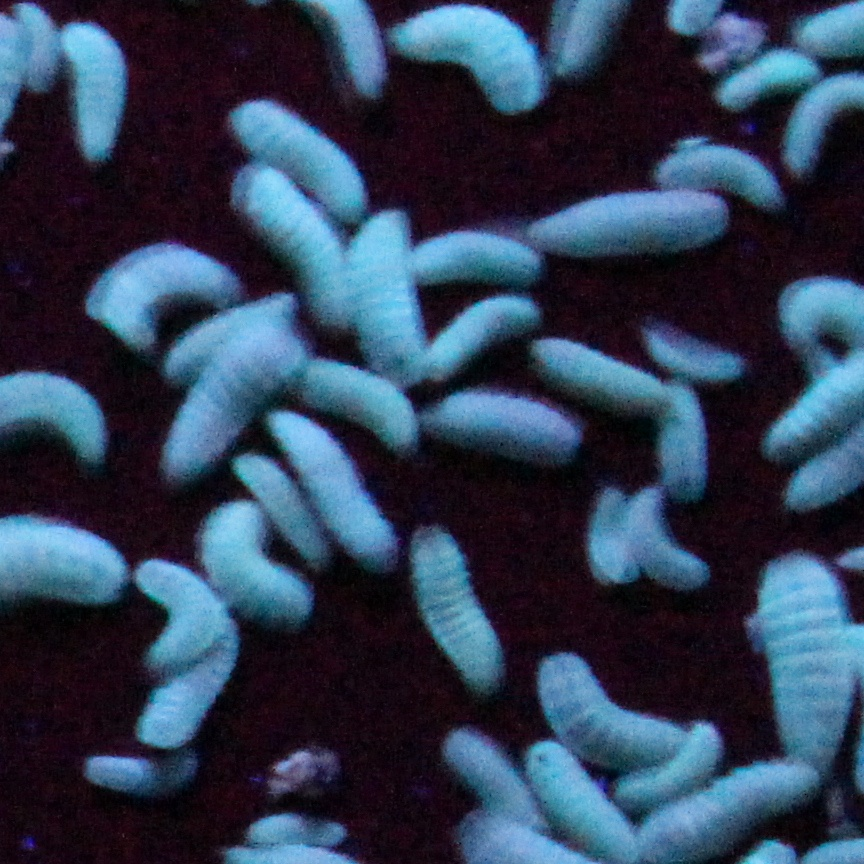larve: (664, 759, 810, 857), (399, 8, 536, 110), (289, 406, 378, 553), (180, 336, 282, 462), (768, 567, 832, 759), (245, 97, 369, 196), (248, 173, 343, 297), (355, 210, 424, 376), (536, 741, 629, 859), (538, 669, 668, 752), (213, 517, 313, 615), (769, 359, 864, 457), (422, 534, 487, 673), (536, 203, 724, 250), (434, 396, 568, 460), (99, 255, 220, 325), (538, 339, 653, 403), (243, 459, 318, 557), (427, 303, 531, 373), (418, 236, 553, 288), (178, 299, 269, 376), (631, 724, 717, 804), (310, 373, 406, 441), (165, 633, 231, 728), (148, 567, 216, 658), (453, 732, 527, 810), (75, 32, 120, 159), (668, 150, 766, 203), (727, 57, 817, 110), (82, 753, 199, 792), (582, 499, 634, 583), (641, 501, 697, 578), (661, 396, 703, 492), (655, 336, 738, 380), (255, 814, 358, 846), (29, 10, 61, 90)
